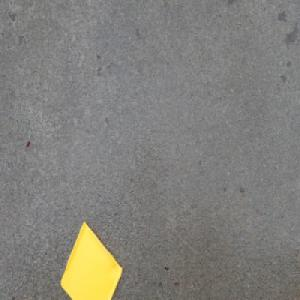PlasticPart: (59, 219, 124, 300)
